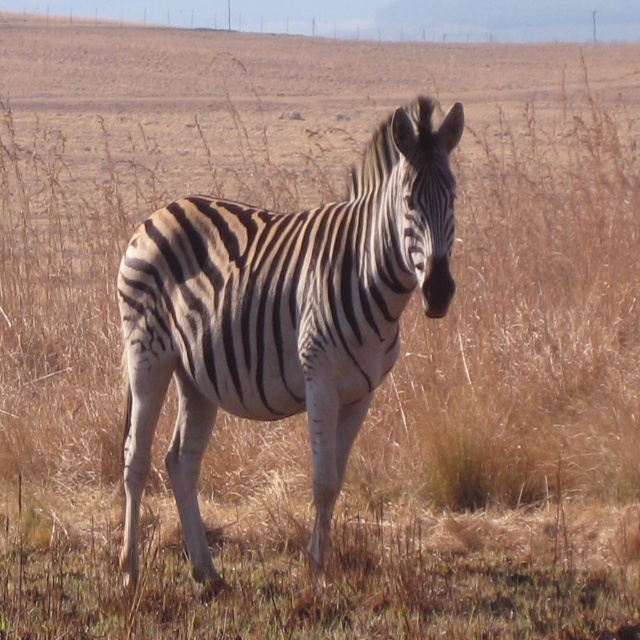Zebra: (117, 93, 465, 604)
